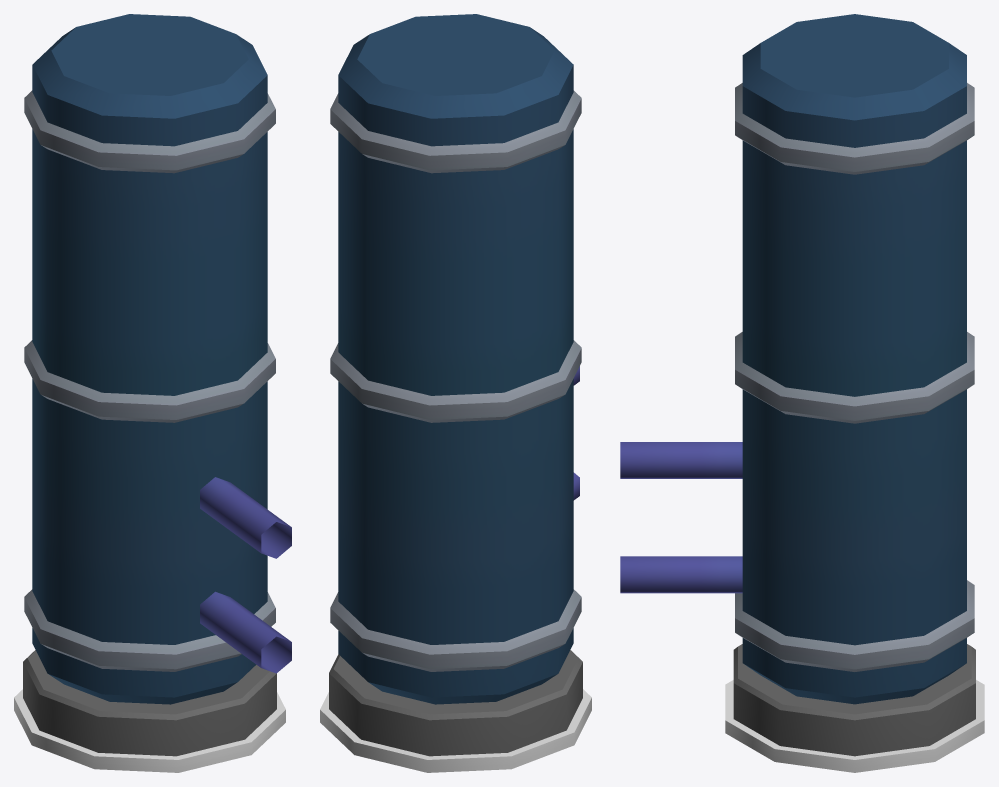
Rendered from GasTank_1_D.fbx.
3 renders of one model, left to right at view 1: azimuth 30°, elevation 25°; view 2: azimuth 150°, elevation 25°; view 3: azimuth 270°, elevation 25°, orthographic.
Parts seen in each view (by area): view 1: GasTank_1_D; view 2: GasTank_1_D; view 3: GasTank_1_D.
Boxes of the visible parts, bbox=[...] form: GasTank_1_D: bbox=[14, 14, 291, 772]; GasTank_1_D: bbox=[320, 14, 591, 772]; GasTank_1_D: bbox=[620, 14, 984, 772].
Bounding box in the file's own units: 284 × 758 × 379.
